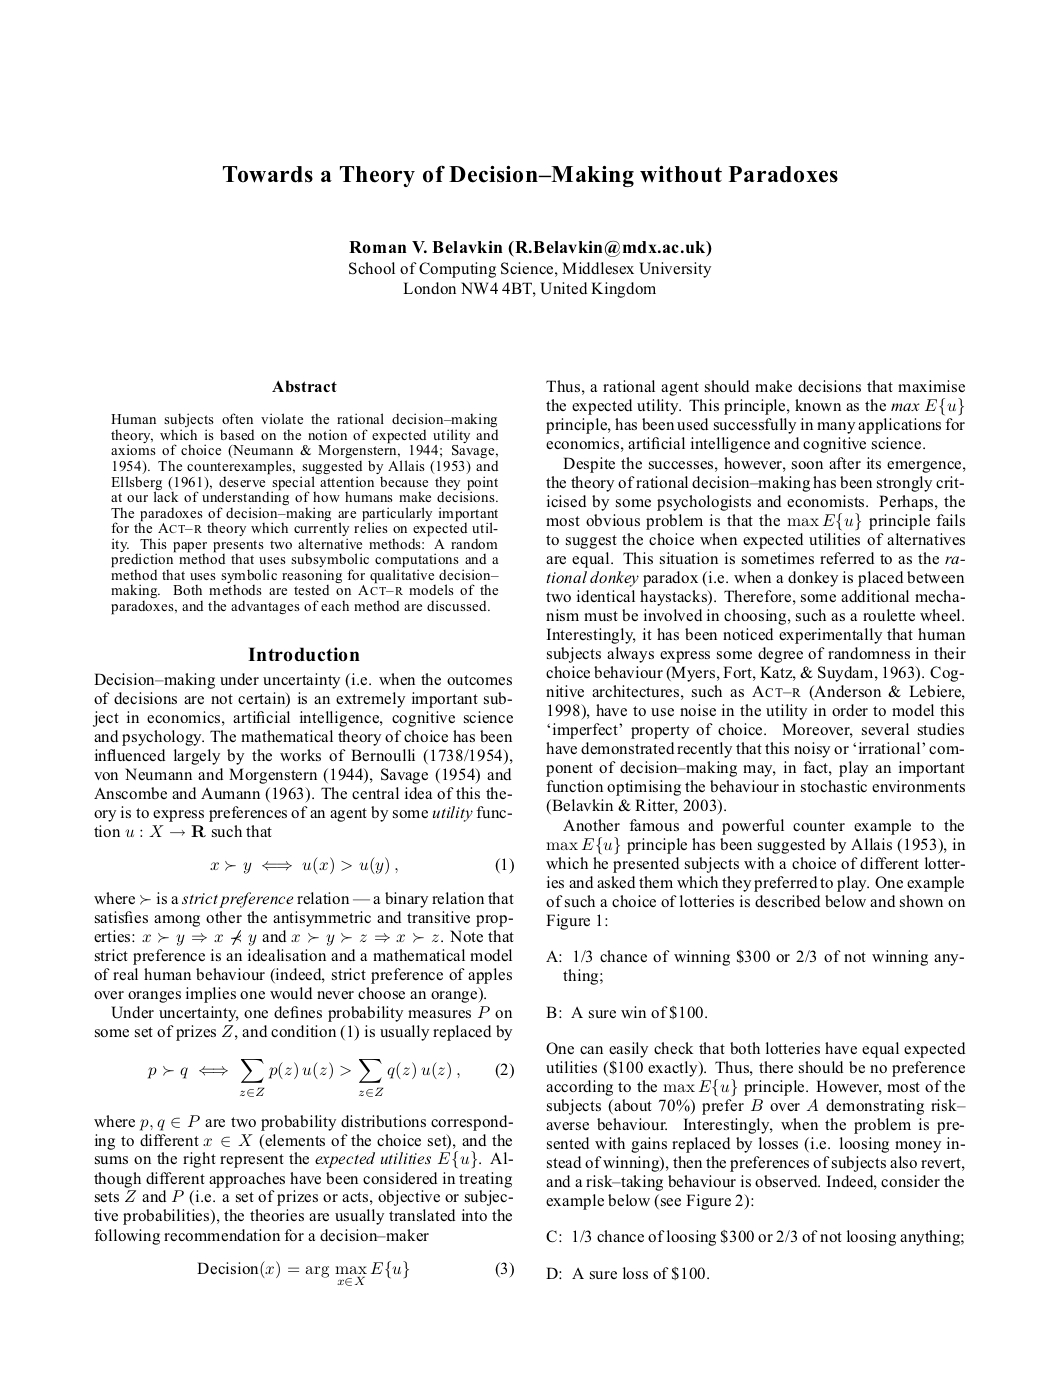formula: (147, 1059, 513, 1096), (197, 1260, 513, 1286), (210, 856, 513, 875)
